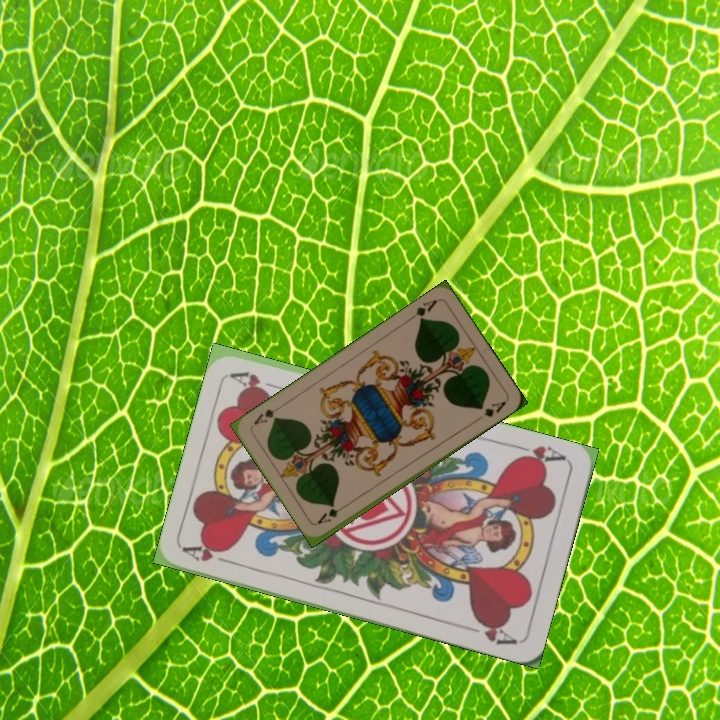GA: (404, 295, 440, 324), (313, 500, 350, 527)
HA: (511, 440, 569, 469), (181, 540, 240, 568)
